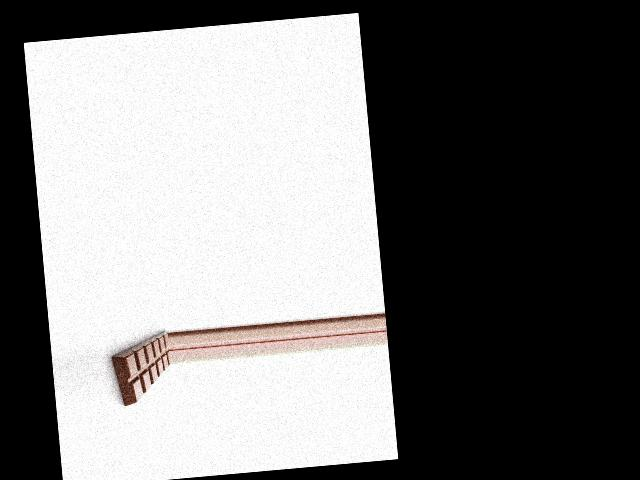chocolate: (107, 326, 173, 407)
